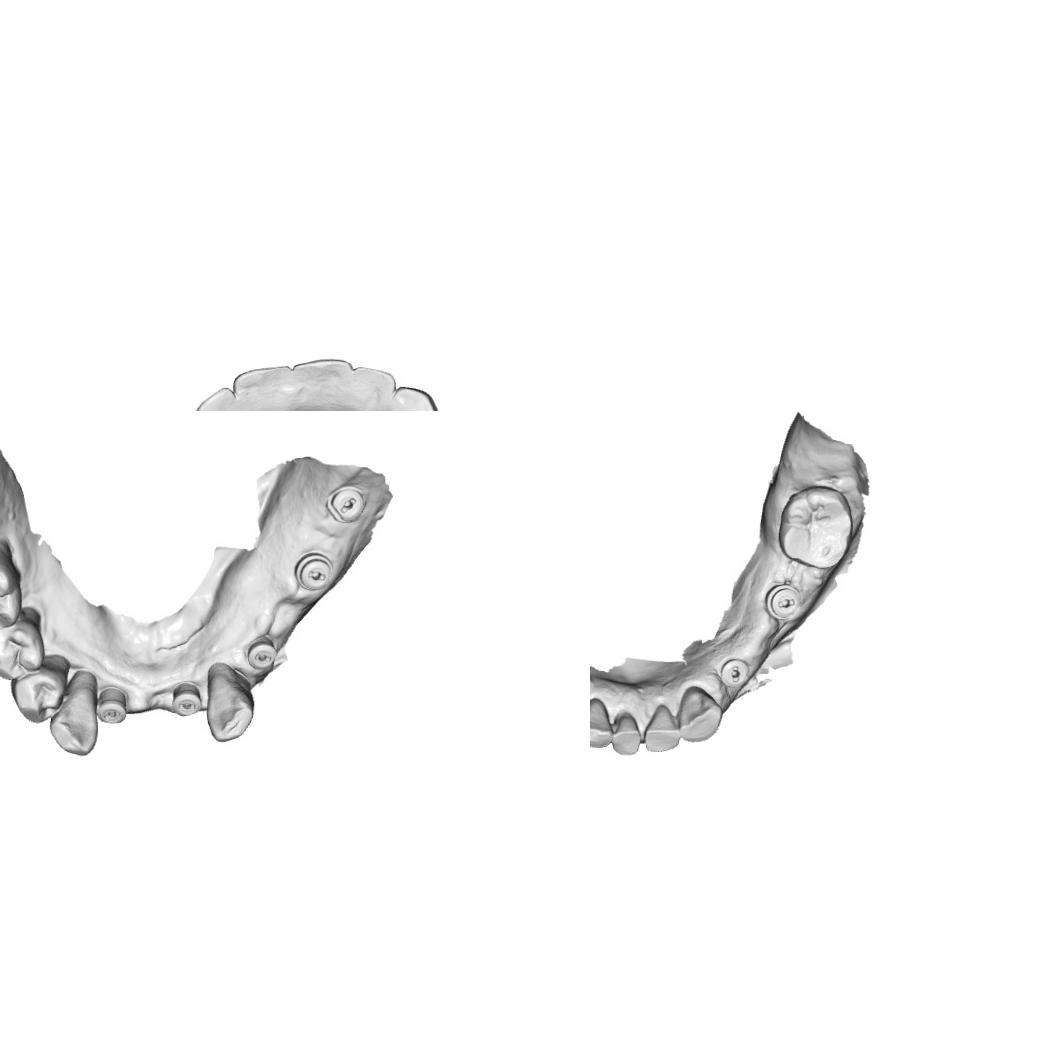canine: (46, 668, 102, 756), (202, 659, 256, 744), (389, 382, 441, 411)
implant_minus: (323, 484, 369, 526), (290, 550, 334, 593), (762, 582, 802, 621), (94, 684, 130, 726), (244, 634, 279, 672), (169, 682, 203, 720), (719, 656, 750, 690)
incisor: (290, 356, 354, 411), (230, 361, 295, 411), (676, 685, 722, 744), (347, 364, 395, 411), (642, 702, 684, 754), (609, 710, 642, 756), (590, 694, 616, 750), (193, 385, 247, 411)
molar: (776, 484, 855, 570), (0, 543, 24, 639)
premolar: (8, 652, 72, 723), (0, 607, 47, 683)
